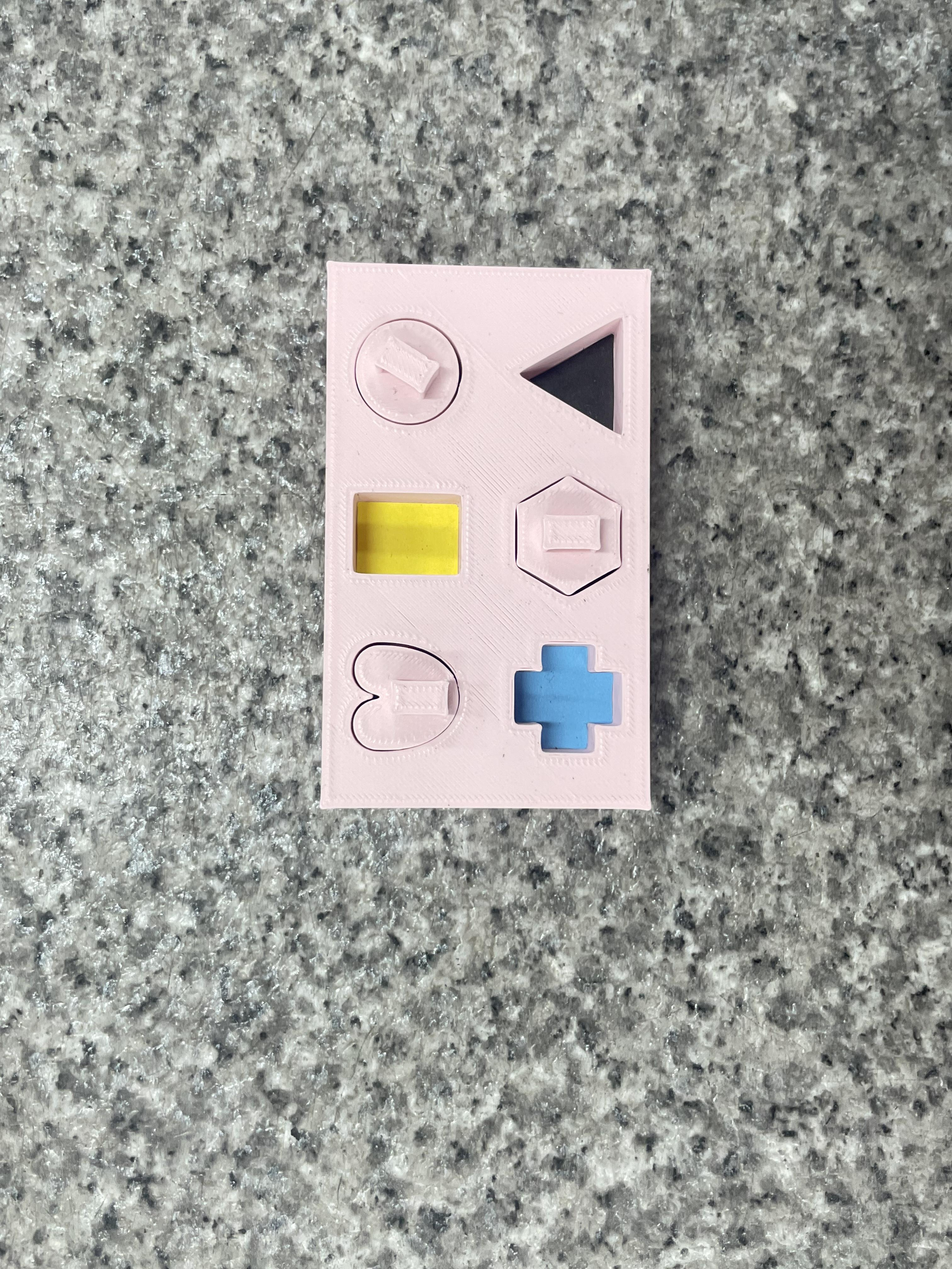unsolved: (318, 252, 667, 825)
